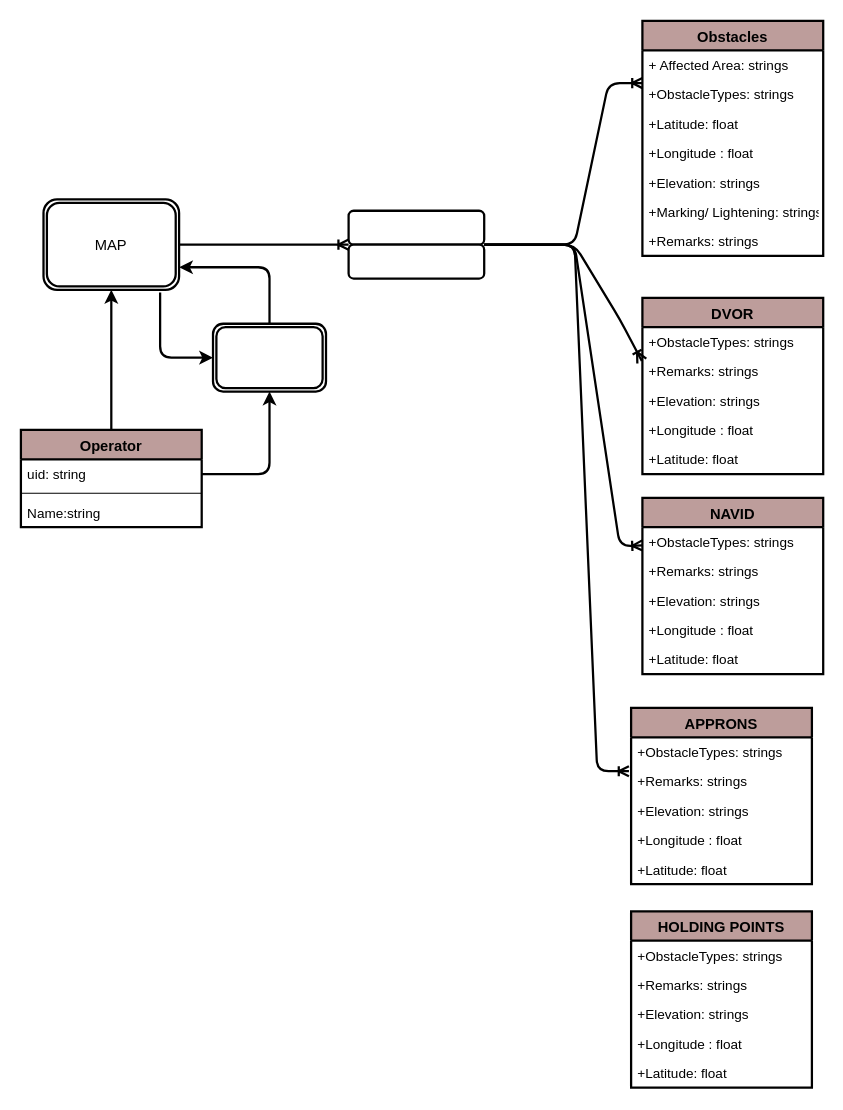
This 843x1110 diagram has some shape labels left out. The shapes that lost their labels are listed below. From the top down, each one's centre as x and y in pixels, then its label:
At point (416, 227): "Latitude".
At point (416, 261): "Longitude".
At point (269, 357): "Interaction".
